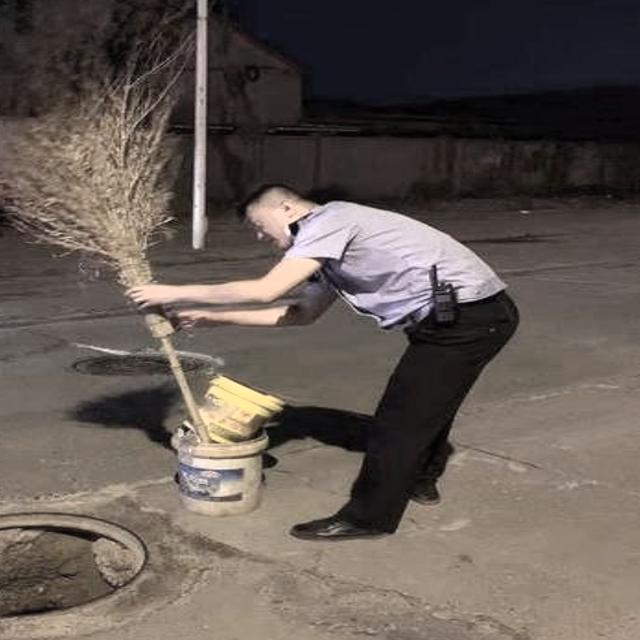lose: (0, 485, 190, 640)
